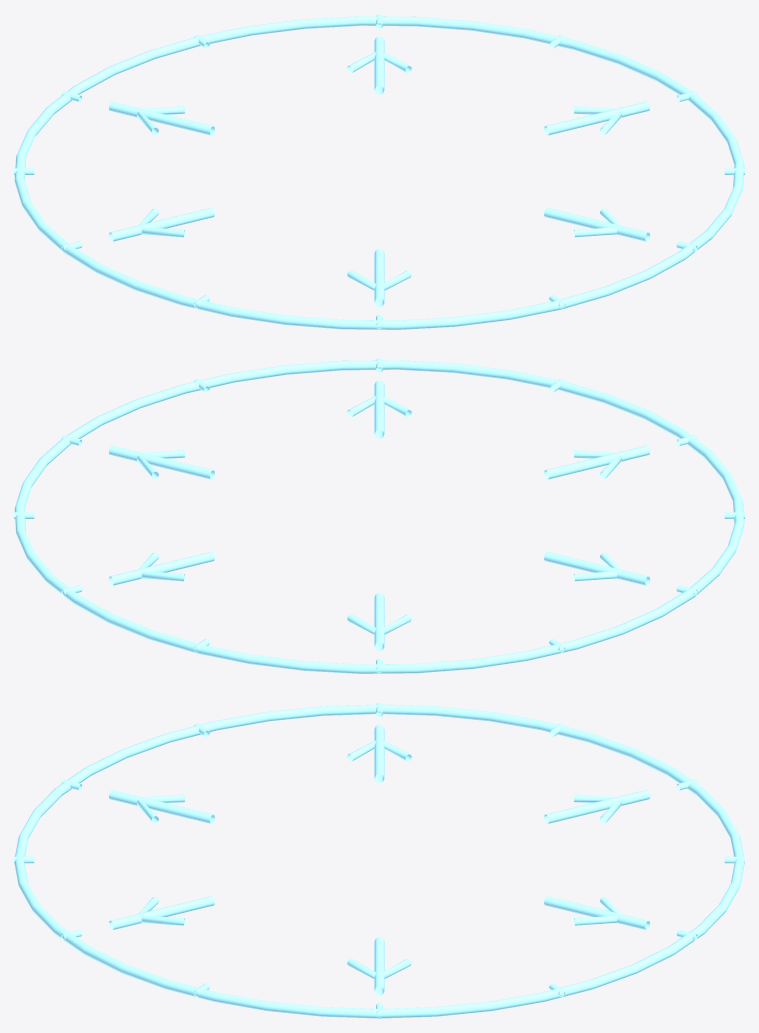
File: affix_frost_aura.glb
3 views of the same model, one above another, from view 1: azimuth 30°, elevation 25°; view 2: azimuth 150°, elevation 25°; view 3: azimuth 270°, elevation 25° (orthographic).
Parts seen in each view (by area): view 1: frost ground inscriptions; view 2: frost ground inscriptions; view 3: frost ground inscriptions.
Part boxes in pixels (left/top/right/bottom): frost ground inscriptions: left=14, top=14, right=744, bottom=329; frost ground inscriptions: left=14, top=358, right=744, bottom=673; frost ground inscriptions: left=14, top=702, right=744, bottom=1018.
Size of the model in its own units: 1.44 by 0.023 by 1.44.
